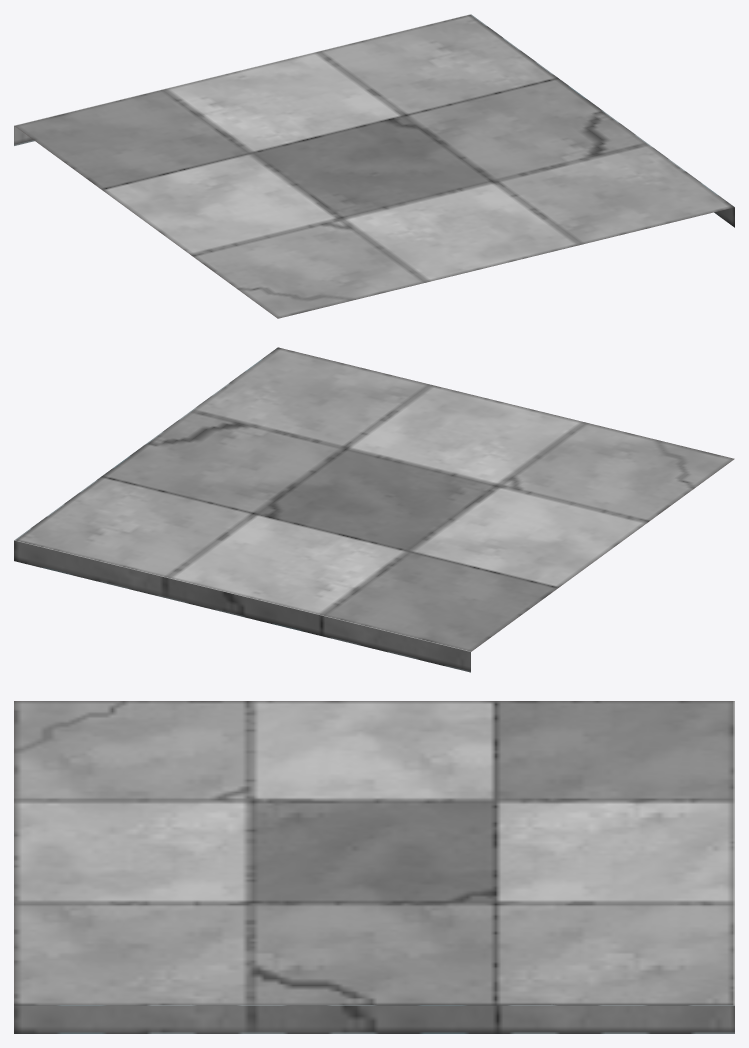
The model's file is Block_Corner.fbx.
3 views of the same model, one above another, from view 1: azimuth 30°, elevation 25°; view 2: azimuth 150°, elevation 25°; view 3: azimuth 270°, elevation 25° (orthographic). The views are drawn at different scales.
Parts seen in each view (by area): view 1: Block_Corner; view 2: Block_Corner; view 3: Block_Corner.
Boxes of the visible parts, x1,y1,x2,y2 form: Block_Corner: (14,14,734,318); Block_Corner: (14,347,734,672); Block_Corner: (14,701,734,1033).
Bounding box in the file's own units: 600 × 25.83 × 600.
